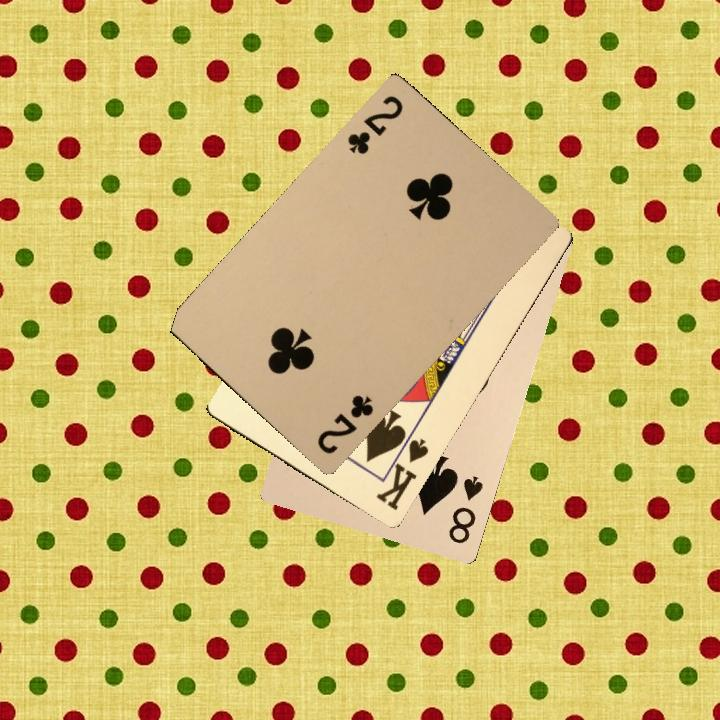2c: (313, 390, 377, 457), (343, 91, 406, 157)
8s: (444, 472, 486, 547)
Ks: (371, 430, 431, 513)
